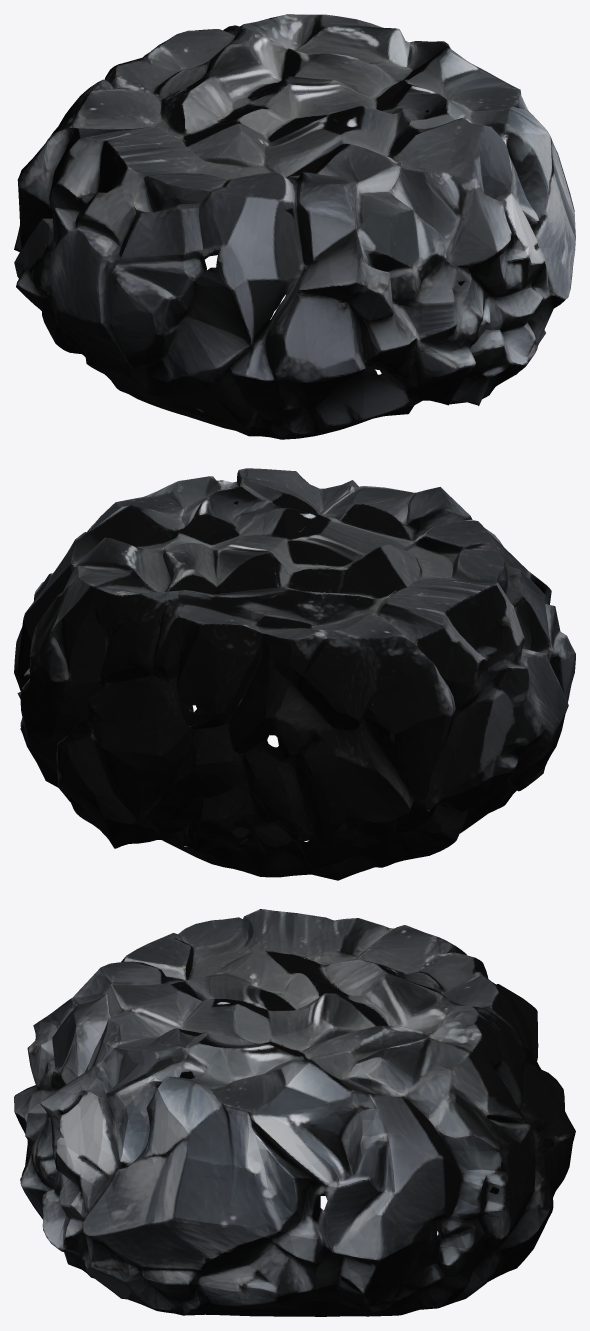
Rendered from stone-paperweight-3d.jpeg.glb.
3 renders of one model, top to bottom at view 1: azimuth 30°, elevation 25°; view 2: azimuth 150°, elevation 25°; view 3: azimuth 270°, elevation 25°, orthographic.
Visible parts, largest first — view 1: world; view 2: world; view 3: world.
Boxes of the visible parts, x1,y1,x2,y2 form: world: (14,14,575,439); world: (14,468,575,880); world: (14,909,575,1316).
Bounding box in the file's own units: 0.9996 × 0.4922 × 0.9957.
1 material, 1 textured.
